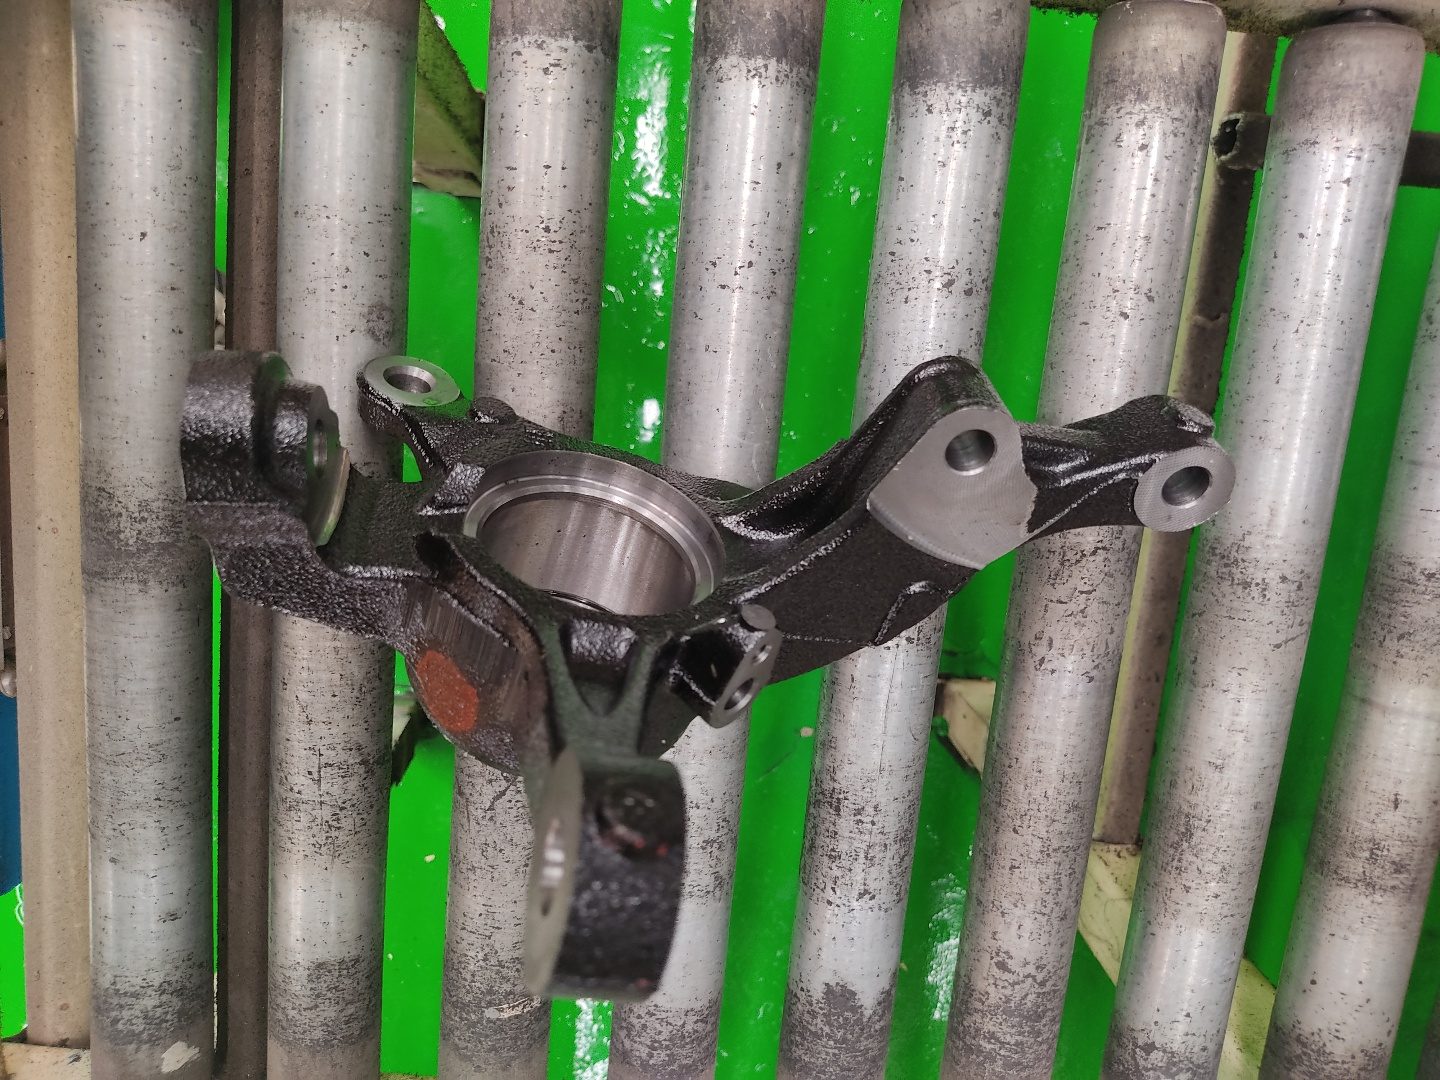abs-rh: (160, 314, 1246, 1021)
